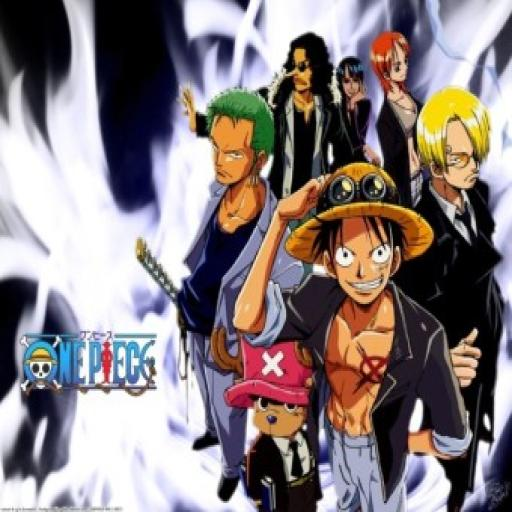Luffy: (283, 161, 433, 313)
Nami: (367, 24, 418, 100)
NicoRobin: (336, 52, 368, 114)
Usopp: (278, 36, 328, 103)
Zoro: (194, 87, 283, 195)
sanji: (413, 85, 499, 194)
